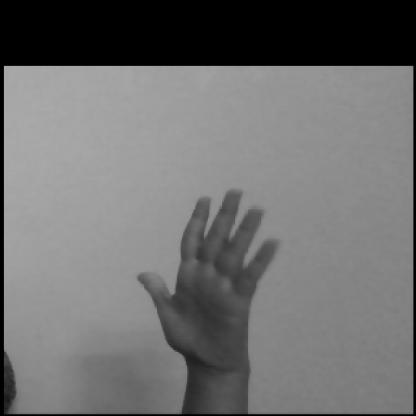palm: (132, 182, 318, 359)
